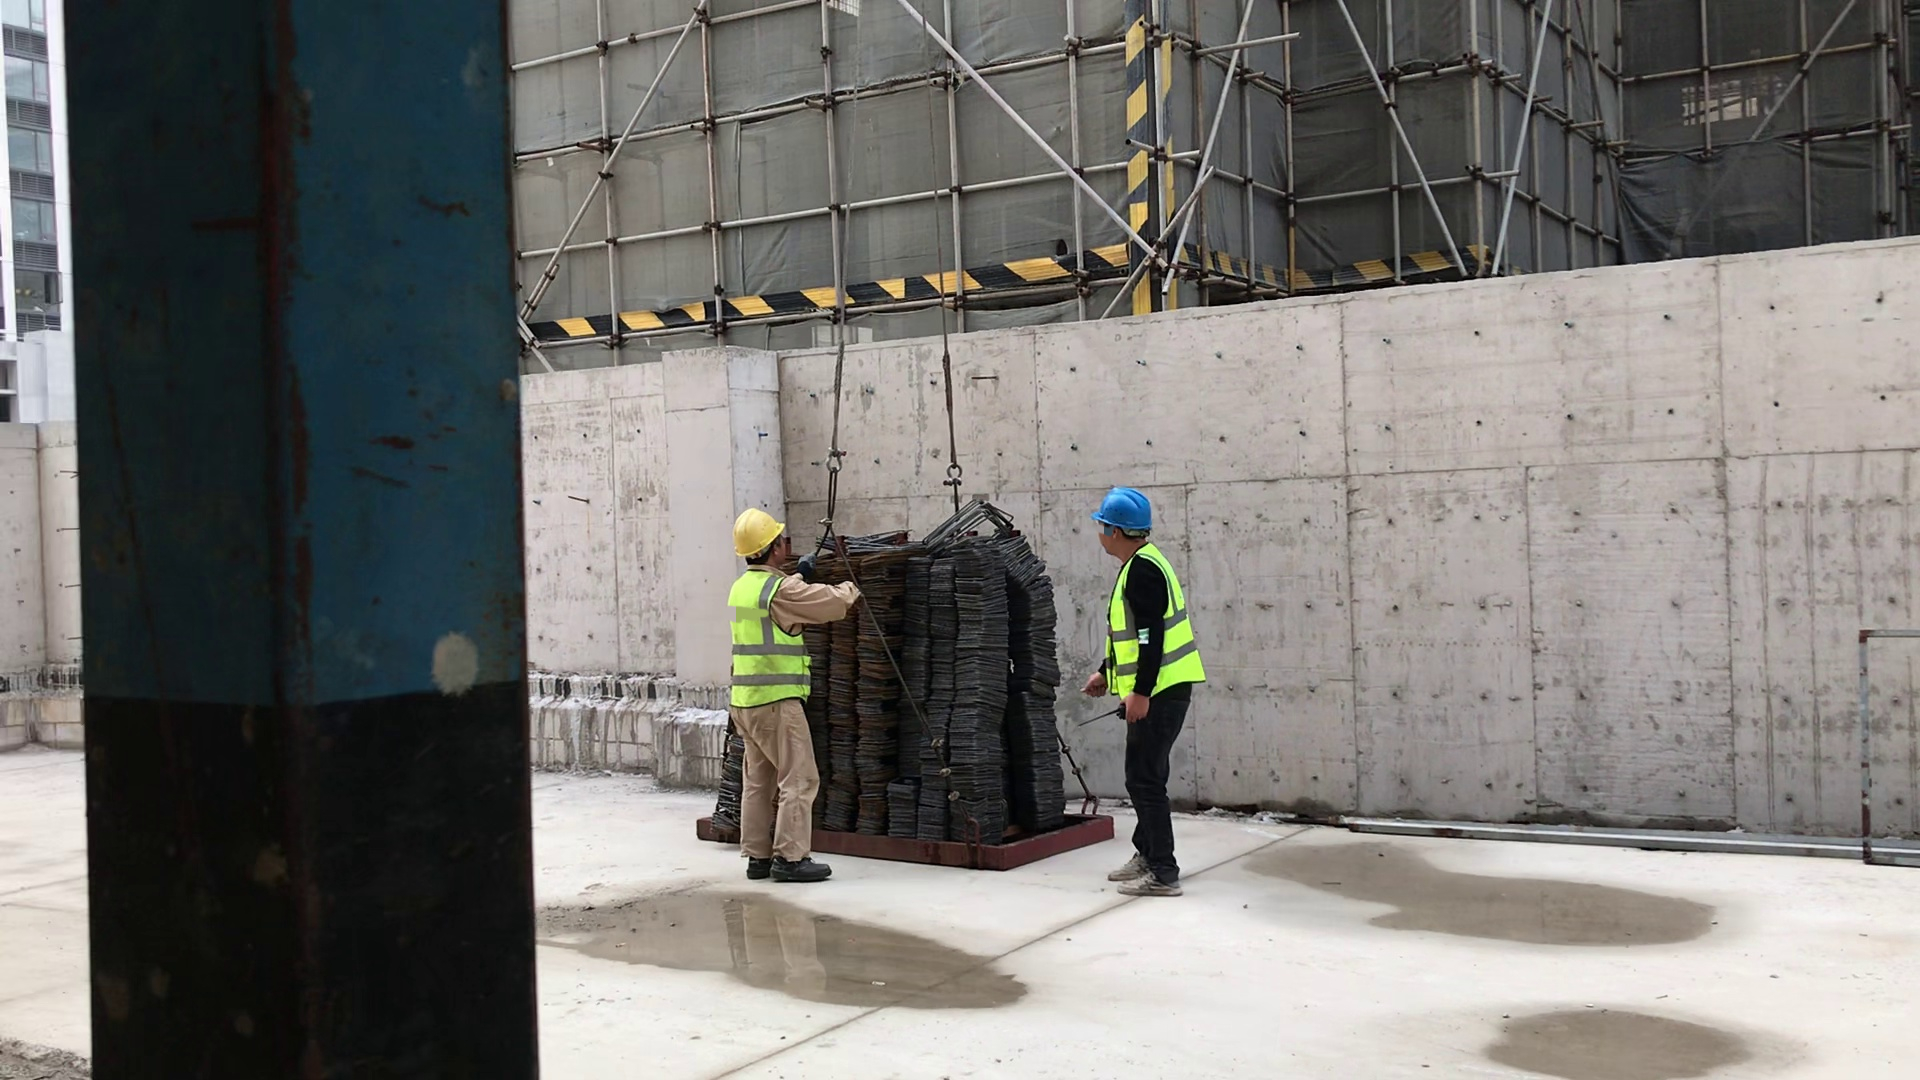helmet: (1096, 484, 1164, 556), (737, 508, 795, 565)
person: (1074, 484, 1209, 898), (724, 506, 842, 883)
vest: (1095, 563, 1219, 698), (731, 574, 827, 702)
